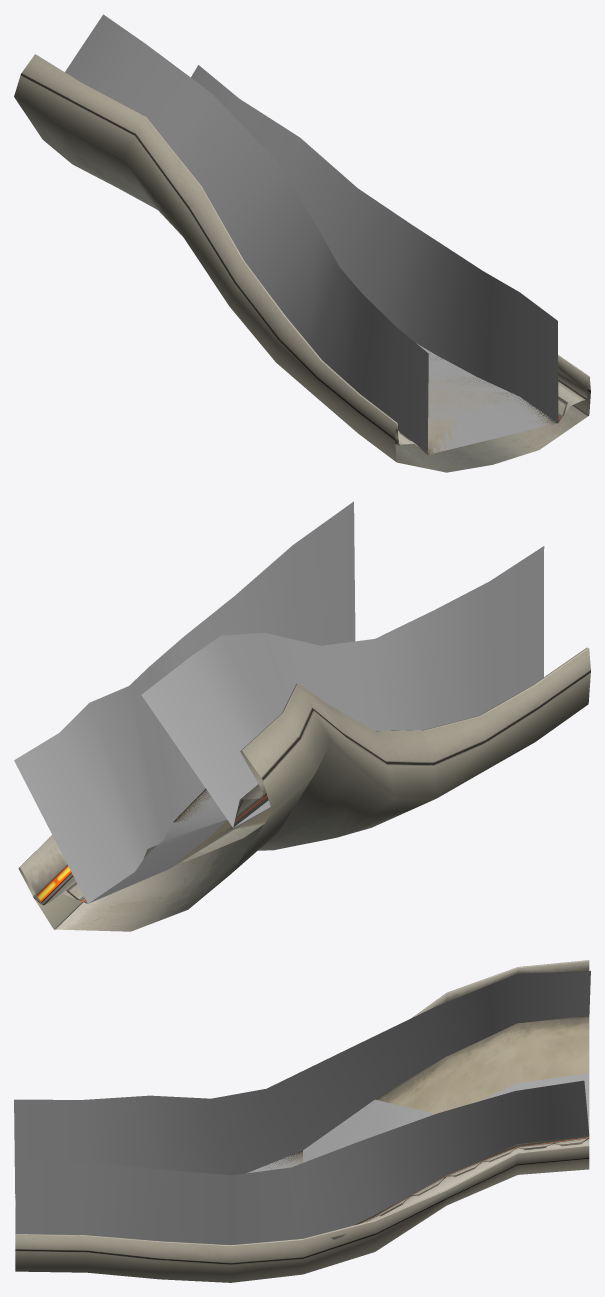
File: road_loop.fbx
3 views of the same model, one above another, from view 1: azimuth 30°, elevation 25°; view 2: azimuth 150°, elevation 25°; view 3: azimuth 270°, elevation 25° (orthographic). The views are drawn at different scales.
Parts seen in each view (by area): view 1: colider_road_loop, road_loop; view 2: colider_road_loop, road_loop; view 3: colider_road_loop, road_loop.
Part boxes in pixels (<box>): colider_road_loop: <box>65,14,558,454</box>; road_loop: <box>14,54,590,472</box>; colider_road_loop: <box>14,501,544,903</box>; road_loop: <box>18,647,590,931</box>; colider_road_loop: <box>14,971,590,1244</box>; road_loop: <box>15,960,589,1282</box>.
Bounding box in the file's own units: 33.85 × 29.87 × 64.21.
3 materials, 2 textured.
